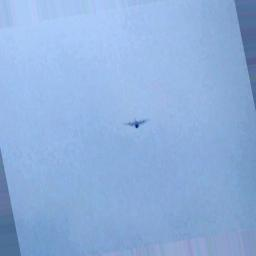Airplane: (123, 119, 150, 130)
